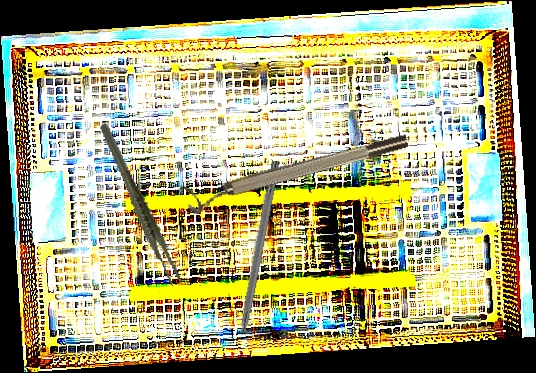Fixation Ring: (183, 130, 412, 216)
Hook Surgical: (231, 159, 281, 359)
Tissue Forceps: (98, 114, 183, 295)
